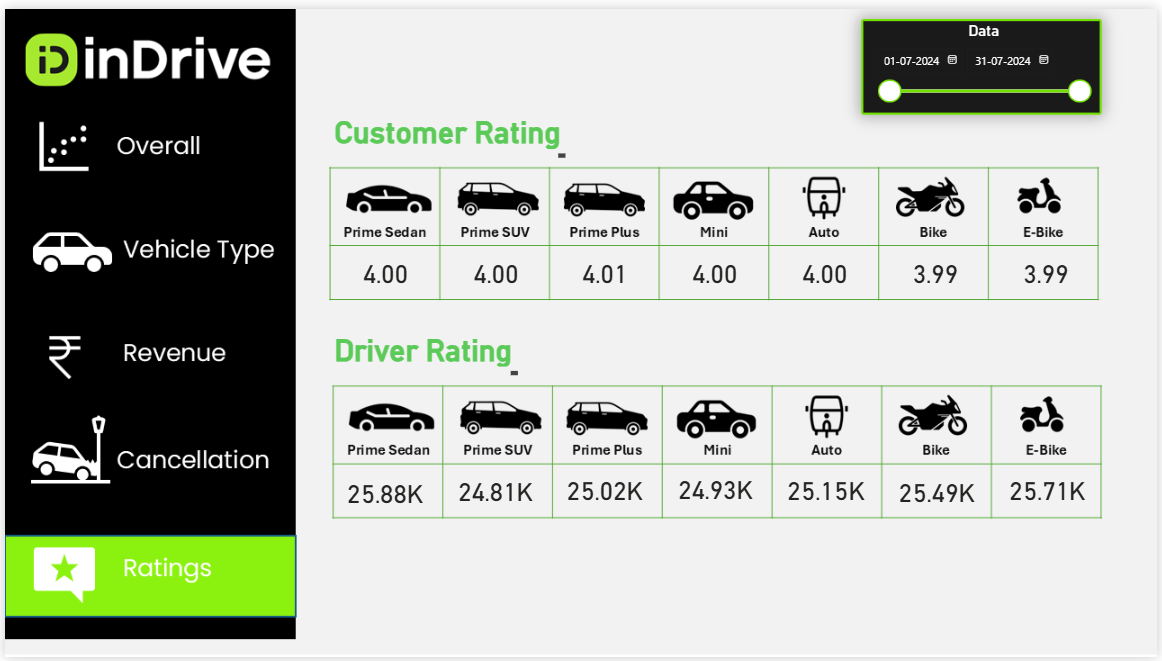

Layout of this report page (visuals, bound fields, positions):
{"tool":"powerbi","page":{"name":"Ratings","canvas":[1280,720],"ordinal":5},"visuals":[{"type":"card","fields":{"Values":["Avg(Bengaluru_inDrive_Booking_Data_01.Customer_Rating)"]},"box":[361,262.2,123.4,61.7],"z":0},{"type":"card","fields":{"Values":["Sum(Bengaluru_inDrive_Booking_Data_01.Driver_Ratings)"]},"box":[361.2,506.2,122.5,61.2],"z":1000},{"type":"card","fields":{"Values":["Avg(Bengaluru_inDrive_Booking_Data_01.Customer_Rating)"]},"box":[484.4,262.2,121.9,61.7],"z":2000},{"type":"textbox","title":"Customer Rating","box":[361.2,117.5,266.2,52.5],"z":3000},{"type":"textbox","title":"Driver Rating","box":[361.2,360,213.8,52.5],"z":4000},{"type":"slicer","title":"Data","fields":{"Values":["Bengaluru_inDrive_Booking_Data_01.Date"]},"box":[951.2,11.2,267.5,106.2],"z":5000},{"type":"actionButton","box":[0,218.7,321.3,92],"z":6000},{"type":"actionButton","box":[0,329.3,321.3,92],"z":7000},{"type":"actionButton","box":[0,444,321.3,92],"z":8000},{"type":"actionButton","box":[0,114.7,321.3,92],"z":9000},{"type":"card","fields":{"Values":["Avg(Bengaluru_inDrive_Booking_Data_01.Customer_Rating)"]},"box":[971.8,262.2,123.4,61.7],"z":10000},{"type":"card","fields":{"Values":["Avg(Bengaluru_inDrive_Booking_Data_01.Customer_Rating)"]},"box":[849.9,262.2,121.9,61.7],"z":11000},{"type":"card","fields":{"Values":["Avg(Bengaluru_inDrive_Booking_Data_01.Customer_Rating)"]},"box":[728.1,262.2,121.9,61.7],"z":12000},{"type":"card","fields":{"Values":["Avg(Bengaluru_inDrive_Booking_Data_01.Customer_Rating)"]},"box":[606.2,262.2,121.9,61.7],"z":13000},{"type":"card","fields":{"Values":["Avg(Bengaluru_inDrive_Booking_Data_01.Customer_Rating)"]},"box":[1095.2,262.2,121.9,61.7],"z":14000},{"type":"card","fields":{"Values":["Sum(Bengaluru_inDrive_Booking_Data_01.Driver_Ratings)"]},"box":[1096.8,504.4,121.9,60.2],"z":15000},{"type":"card","fields":{"Values":["Sum(Bengaluru_inDrive_Booking_Data_01.Driver_Ratings)"]},"box":[973.3,506,123.4,61.7],"z":16000},{"type":"card","fields":{"Values":["Sum(Bengaluru_inDrive_Booking_Data_01.Driver_Ratings)"]},"box":[851.5,504.4,121.9,60.2],"z":17000},{"type":"card","fields":{"Values":["Sum(Bengaluru_inDrive_Booking_Data_01.Driver_Ratings)"]},"box":[728.1,502.9,123.4,61.7],"z":18000},{"type":"card","fields":{"Values":["Sum(Bengaluru_inDrive_Booking_Data_01.Driver_Ratings)"]},"box":[606.2,504.4,121.9,60.2],"z":19000},{"type":"card","fields":{"Values":["Sum(Bengaluru_inDrive_Booking_Data_01.Driver_Ratings)"]},"box":[482.8,504.4,123.4,61.7],"z":20000}]}

Visuals, with their boxes on the page's 1280x720 design canvas (x1, y1, x2, y2). These are canvas units, not pixel positions in the 1162x661 screenshot, which may show the page scaled, cropped or inside an application window:
card - Avg(Bengaluru_inDrive_Booking_Data_01.Customer_Rating): box=[361, 262, 484, 324]
card - Sum(Bengaluru_inDrive_Booking_Data_01.Driver_Ratings): box=[361, 506, 484, 567]
card - Avg(Bengaluru_inDrive_Booking_Data_01.Customer_Rating): box=[484, 262, 606, 324]
"Customer Rating" textbox: box=[361, 118, 627, 170]
"Driver Rating" textbox: box=[361, 360, 575, 412]
"Data" slicer: box=[951, 11, 1219, 117]
actionButton: box=[0, 219, 321, 311]
actionButton: box=[0, 329, 321, 421]
actionButton: box=[0, 444, 321, 536]
actionButton: box=[0, 115, 321, 207]
card - Avg(Bengaluru_inDrive_Booking_Data_01.Customer_Rating): box=[972, 262, 1095, 324]
card - Avg(Bengaluru_inDrive_Booking_Data_01.Customer_Rating): box=[850, 262, 972, 324]
card - Avg(Bengaluru_inDrive_Booking_Data_01.Customer_Rating): box=[728, 262, 850, 324]
card - Avg(Bengaluru_inDrive_Booking_Data_01.Customer_Rating): box=[606, 262, 728, 324]
card - Avg(Bengaluru_inDrive_Booking_Data_01.Customer_Rating): box=[1095, 262, 1217, 324]
card - Sum(Bengaluru_inDrive_Booking_Data_01.Driver_Ratings): box=[1097, 504, 1219, 565]
card - Sum(Bengaluru_inDrive_Booking_Data_01.Driver_Ratings): box=[973, 506, 1097, 568]
card - Sum(Bengaluru_inDrive_Booking_Data_01.Driver_Ratings): box=[852, 504, 973, 565]
card - Sum(Bengaluru_inDrive_Booking_Data_01.Driver_Ratings): box=[728, 503, 852, 565]
card - Sum(Bengaluru_inDrive_Booking_Data_01.Driver_Ratings): box=[606, 504, 728, 565]
card - Sum(Bengaluru_inDrive_Booking_Data_01.Driver_Ratings): box=[483, 504, 606, 566]
